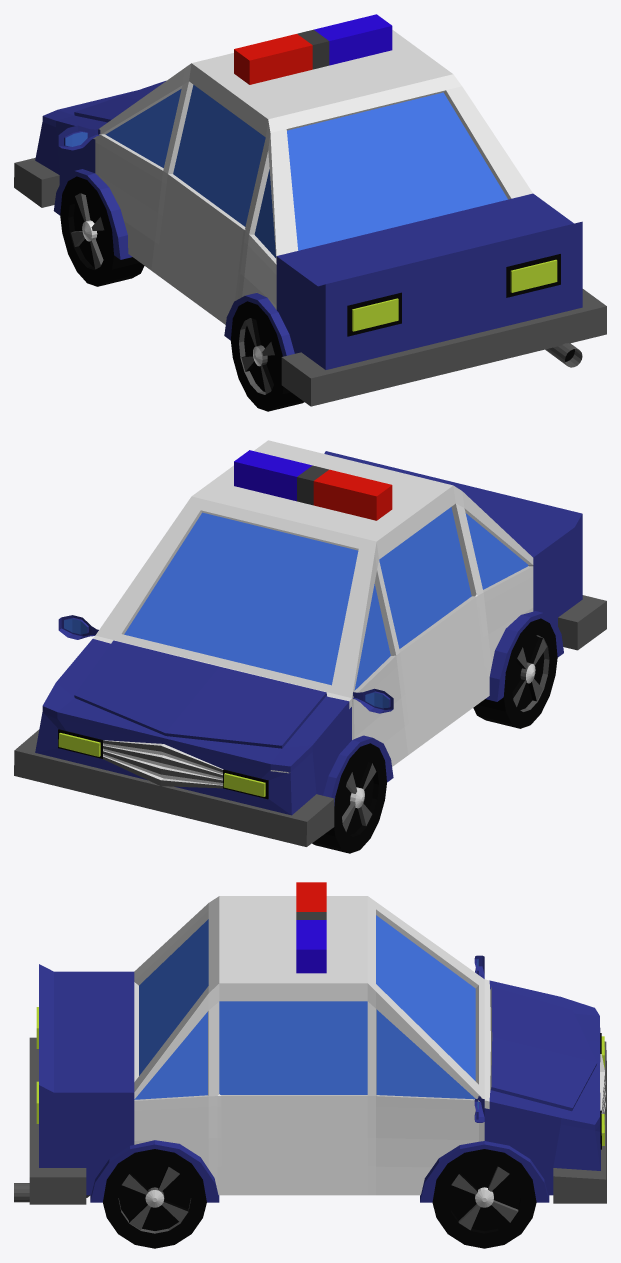
The model's file is vehicle_policeCar.glb.
The picture shows the model from 3 angles, top to bottom: view 1: azimuth 30°, elevation 25°; view 2: azimuth 150°, elevation 25°; view 3: azimuth 270°, elevation 25°; orthographic projection. The views are drawn at different scales.
Parts seen in each view (by area): view 1: PoliceCar; view 2: PoliceCar; view 3: PoliceCar.
Boxes of the visible parts, bbox=[...] form: PoliceCar: bbox=[14, 14, 606, 411]; PoliceCar: bbox=[14, 440, 606, 853]; PoliceCar: bbox=[14, 882, 606, 1248].
Size of the model in its own units: 10 by 8 by 16.
